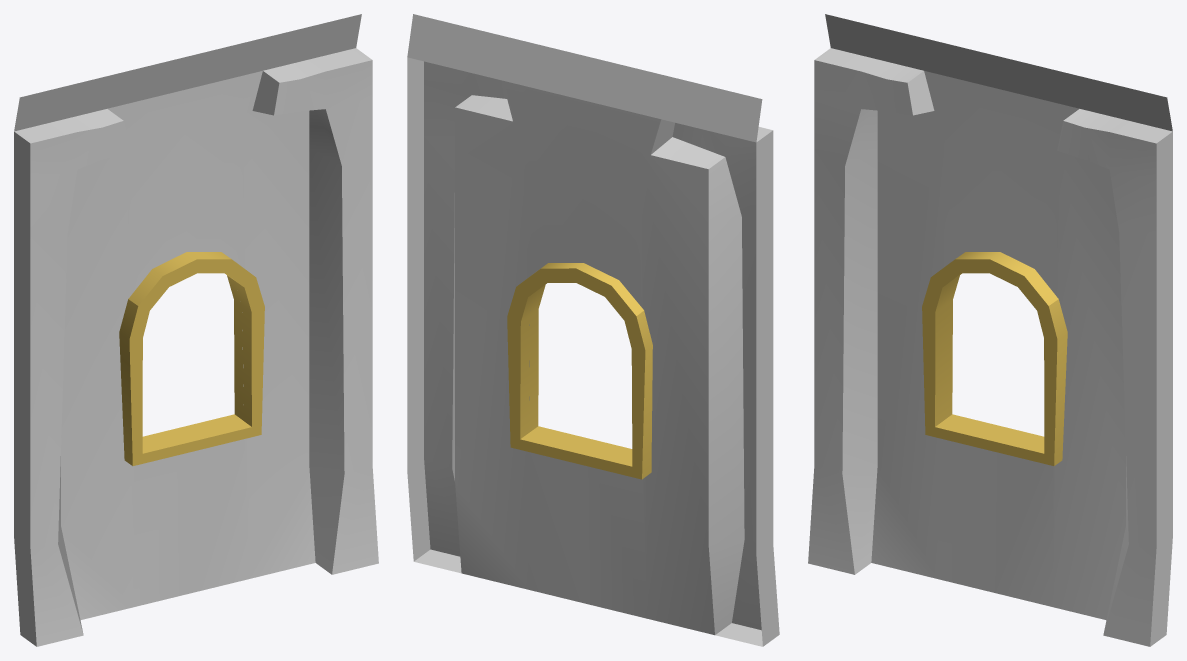
File: window_wall.fbx
The picture shows the model from 3 angles, left to right: view 1: azimuth 30°, elevation 25°; view 2: azimuth 150°, elevation 25°; view 3: azimuth 330°, elevation 25°; orthographic projection. The views are drawn at different scales.
Visible parts, largest first — view 1: Plane.002, Cube.004; view 2: Plane.002, Cube.004; view 3: Plane.002, Cube.004.
Boxes of the visible parts, bbox=[...] form: Plane.002: bbox=[14, 14, 378, 646]; Cube.004: bbox=[119, 252, 264, 465]; Plane.002: bbox=[407, 14, 779, 646]; Cube.004: bbox=[507, 263, 652, 479]; Plane.002: bbox=[808, 14, 1172, 646]; Cube.004: bbox=[922, 252, 1067, 465].
Bounding box in the file's own units: 200 × 300 × 28.58.
